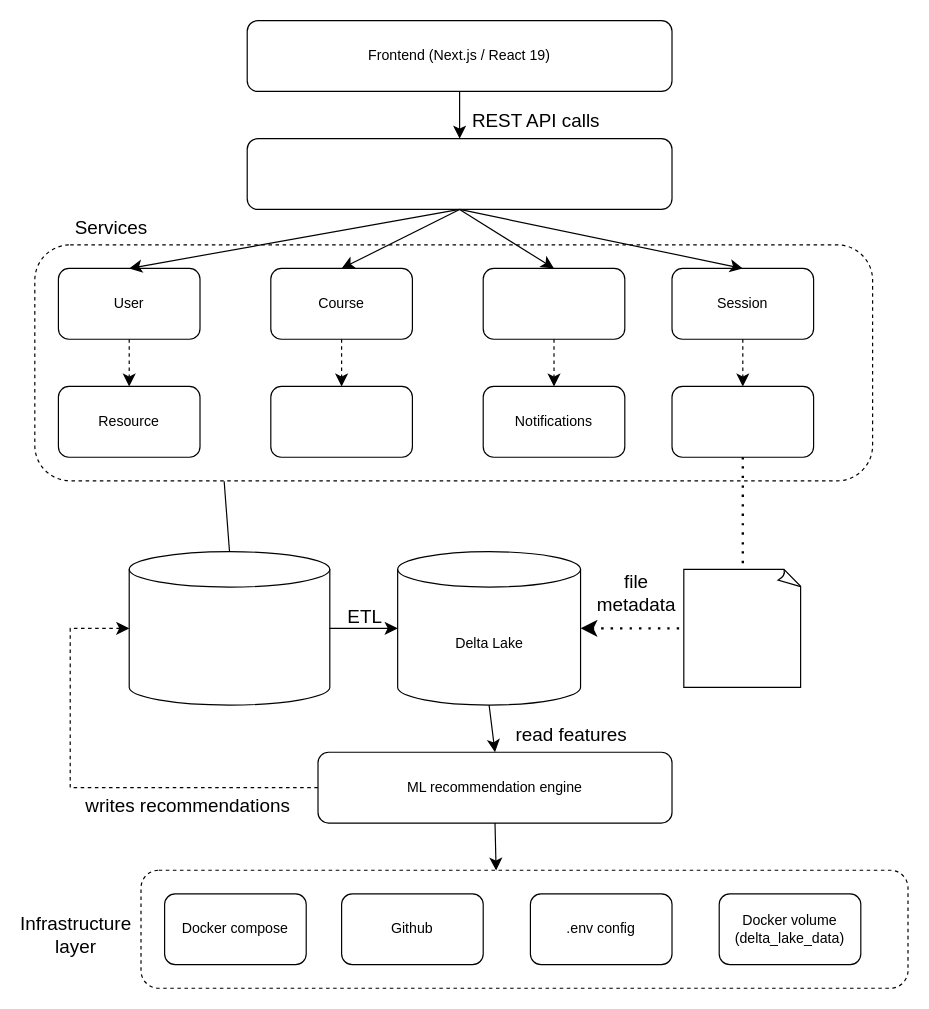
The diagram is 929 pixels wide and 1009 high, and some of its shapes have lost their labels. The shapes that lost their labels are listed below. From the top down, each one's centre as x and y in pixels, then its label:
(x=459, y=173): Backend API (FastAPI/Python)
(x=553, y=303): Study Group
(x=341, y=421): Discussion
(x=742, y=421): Recommendations
(x=229, y=627): PostgreSQL
(x=742, y=627): File Storage Supabase
